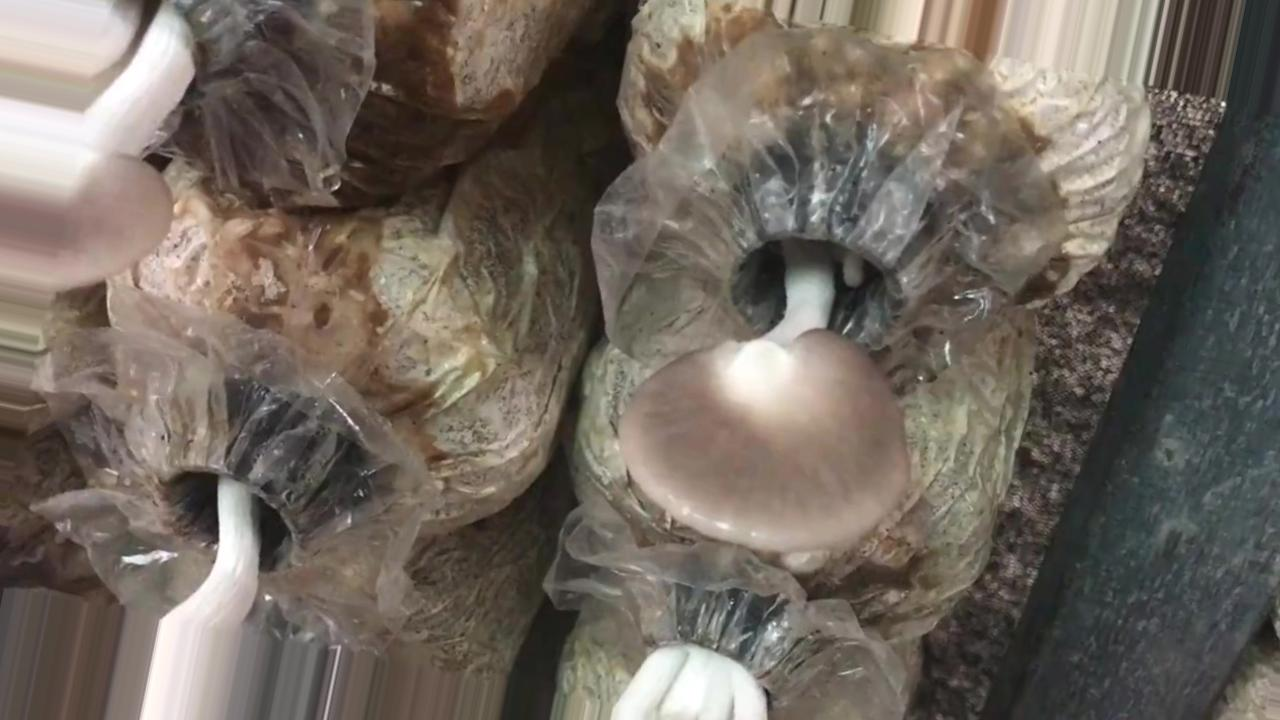nam: (613, 131, 920, 556), (3, 6, 231, 299)
